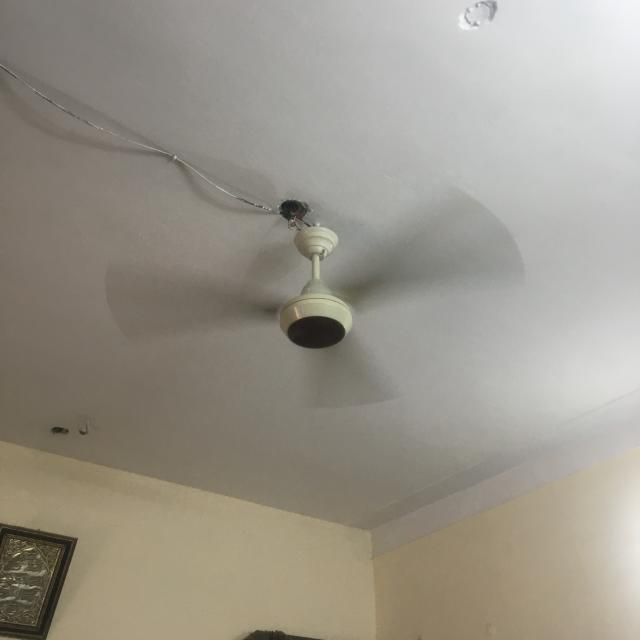on: (97, 179, 534, 422)
